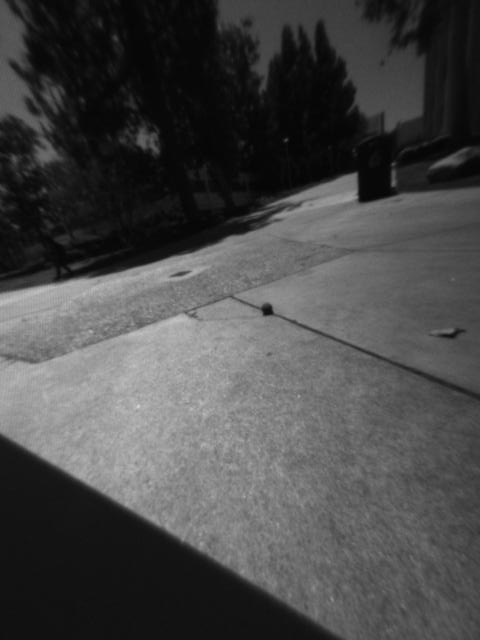dogtoy: (258, 298, 280, 321)
